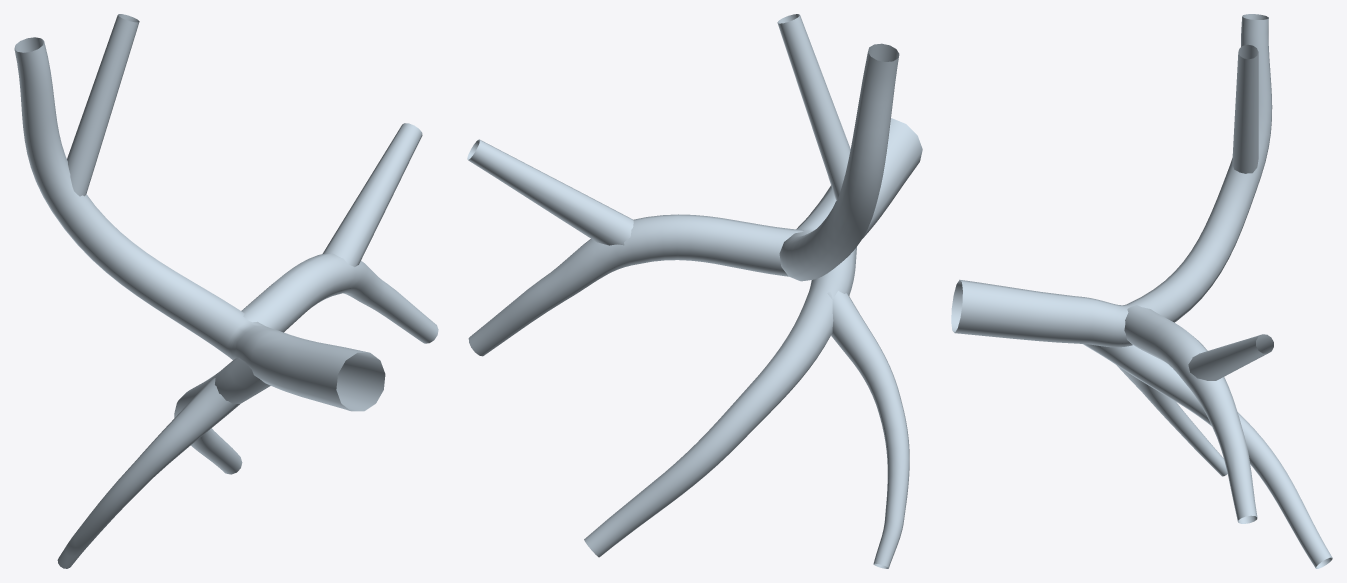
The model's file is visceras-superior-segmental-bronchus-of-left-lung-bvi.glb.
The picture shows the model from 3 angles, left to right: view 1: azimuth 30°, elevation 25°; view 2: azimuth 150°, elevation 25°; view 3: azimuth 270°, elevation 25°; orthographic projection. The views are drawn at different scales.
Visible parts, largest first — view 1: Superior segmental bronchus of left lung (BVI); view 2: Superior segmental bronchus of left lung (BVI); view 3: Superior segmental bronchus of left lung (BVI).
Boxes of the visible parts, x1,y1,x2,y2 form: Superior segmental bronchus of left lung (BVI): [14, 14, 438, 568]; Superior segmental bronchus of left lung (BVI): [467, 14, 922, 568]; Superior segmental bronchus of left lung (BVI): [951, 14, 1332, 568].
Size of the model in its own units: 0.0621 by 0.0751 by 0.0565.
